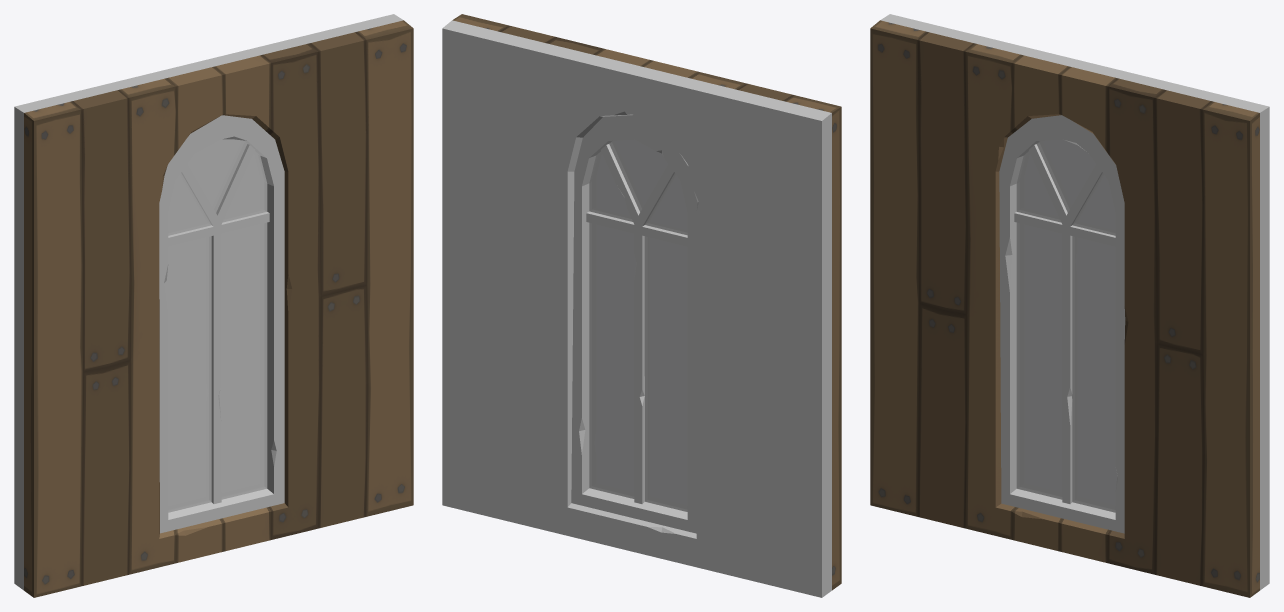
Rendered from SM_Bld_Deco_Wall_Window_02.fbx.
3 views of the same model, side by side, from view 1: azimuth 30°, elevation 25°; view 2: azimuth 150°, elevation 25°; view 3: azimuth 330°, elevation 25° (orthographic).
Visible parts, largest first — view 1: SM_Bld_Deco_Wall_Window_02; view 2: SM_Bld_Deco_Wall_Window_02; view 3: SM_Bld_Deco_Wall_Window_02.
Boxes of the visible parts, x1=… form: SM_Bld_Deco_Wall_Window_02: x1=14, y1=14, x2=413, y2=597; SM_Bld_Deco_Wall_Window_02: x1=442, y1=14, x2=841, y2=597; SM_Bld_Deco_Wall_Window_02: x1=870, y1=14, x2=1269, y2=597.
Bounding box in the file's own units: 250 × 301 × 22.5.
